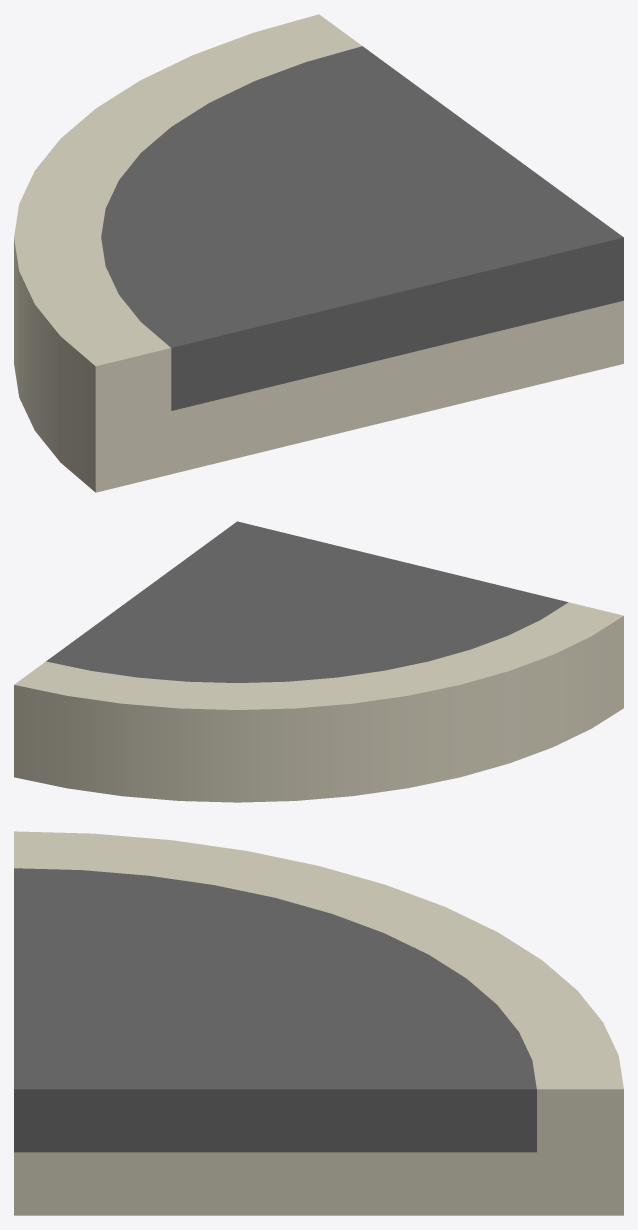
Rendered from roadTile_111.fbx.
3 renders of one model, top to bottom at view 1: azimuth 30°, elevation 25°; view 2: azimuth 150°, elevation 25°; view 3: azimuth 270°, elevation 25°, orthographic. The views are drawn at different scales.
Visible parts, largest first — view 1: roadTile_111; view 2: roadTile_111; view 3: roadTile_111.
Part boxes in pixels (x1=…): roadTile_111: x1=14, y1=14, x2=623, y2=492; roadTile_111: x1=14, y1=521, x2=623, y2=802; roadTile_111: x1=14, y1=831, x2=623, y2=1215.
Size of the model in its own units: 103 by 23.62 by 103.
